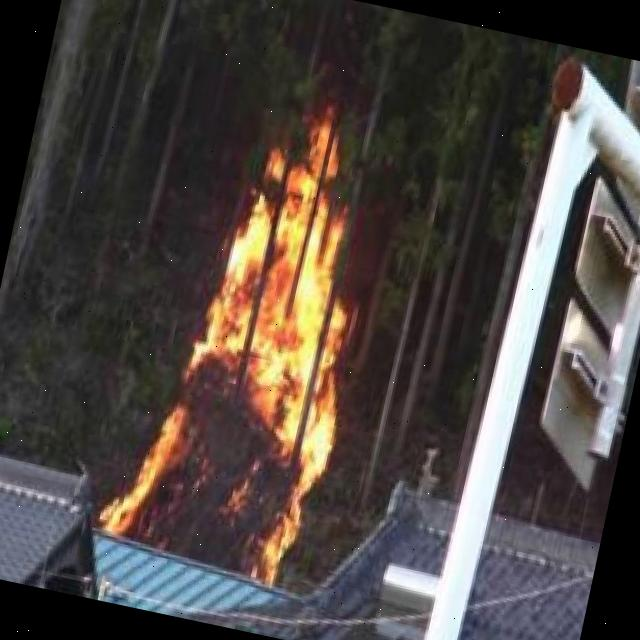fire: (98, 102, 401, 588)
